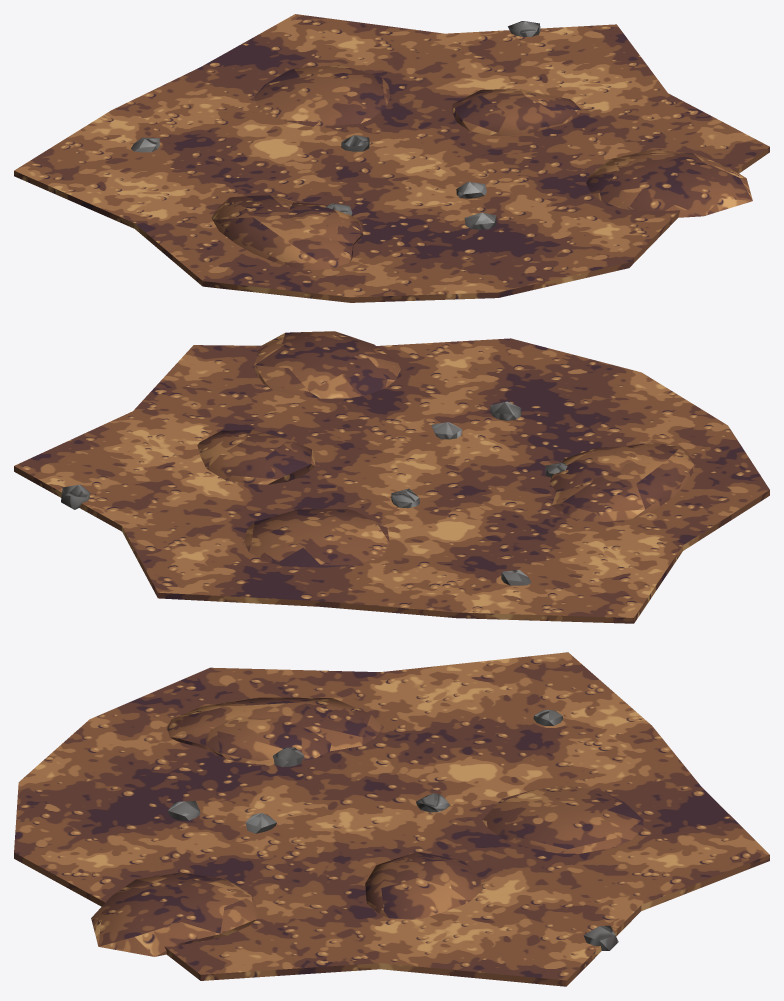
Rendered from dirt_patch.glb.
3 renders of one model, top to bottom at view 1: azimuth 30°, elevation 25°; view 2: azimuth 150°, elevation 25°; view 3: azimuth 270°, elevation 25°, orthographic. The views are drawn at different scales.
Parts seen in each view (by area): view 1: Ground; view 2: Ground; view 3: Ground.
Part boxes in pixels (x1,y1,x2,y2): Ground: (14,14,769,302); Ground: (14,331,769,623); Ground: (14,652,769,986).
Size of the model in its own units: 3.41 by 0.1104 by 3.31.
Materials: 2 (2 with a texture image).
